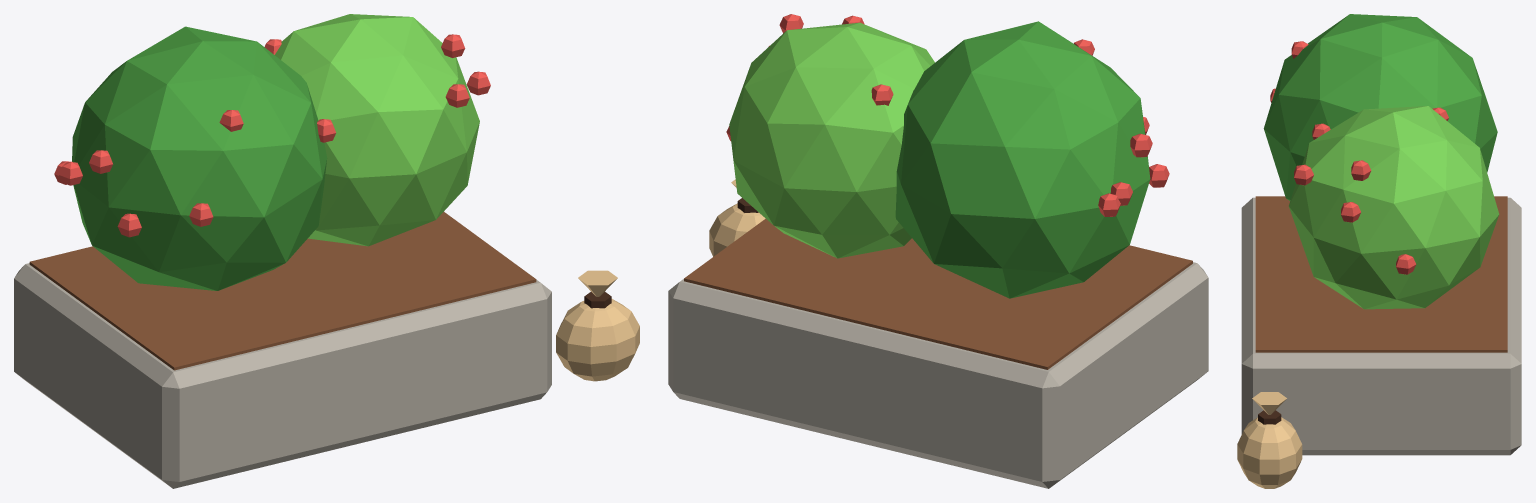
File: station_coffee_bush.glb
3 views of the same model, side by side, from view 1: azimuth 30°, elevation 25°; view 2: azimuth 150°, elevation 25°; view 3: azimuth 270°, elevation 25° (orthographic). The views are drawn at different scales.
Parts seen in each view (by area): view 1: station_coffee_bush, station_coffee_bush_cherries; view 2: station_coffee_bush, station_coffee_bush_cherries; view 3: station_coffee_bush, station_coffee_bush_cherries.
Part boxes in pixels (left/top/right/bottom): station_coffee_bush: left=14, top=14, right=639, bottom=488; station_coffee_bush_cherries: left=54, top=34, right=490, bottom=237; station_coffee_bush: left=668, top=21, right=1208, bottom=488; station_coffee_bush_cherries: left=726, top=14, right=1169, bottom=216; station_coffee_bush: left=1237, top=14, right=1521, bottom=488; station_coffee_bush_cherries: left=1270, top=41, right=1448, bottom=274.
Size of the model in its own units: 1.77 by 1.27 by 1.02.
